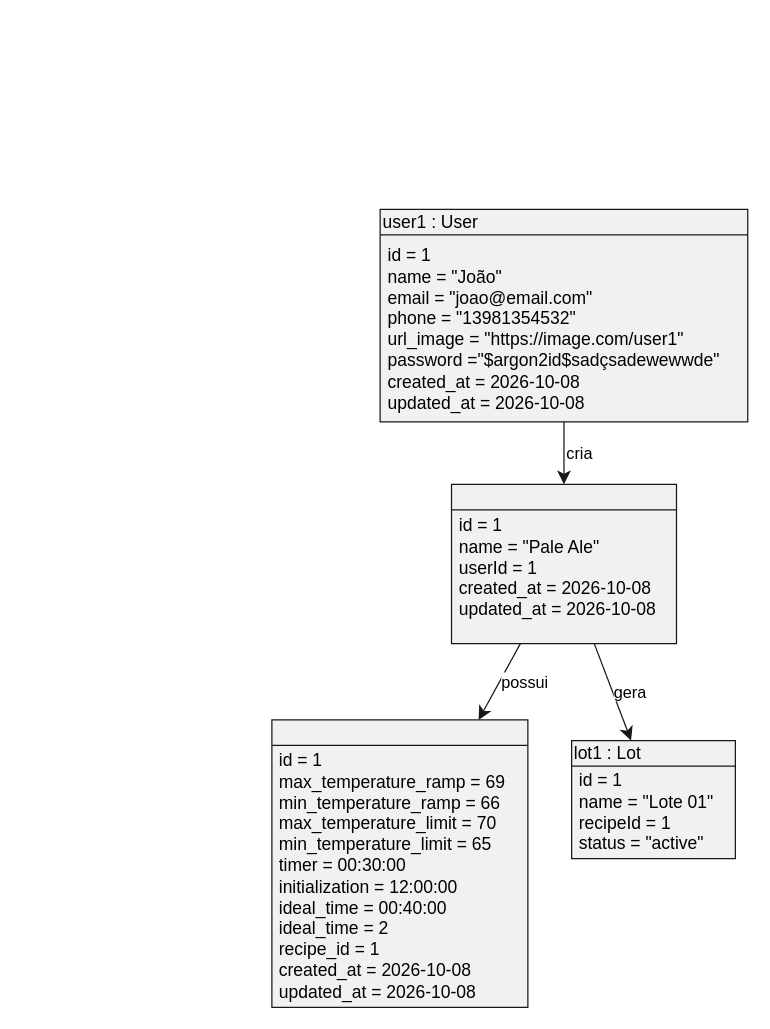
Image size: 770x1029. Some labels were removed from this diagram. The shapes that lost their labels are listed below. From the top down, each one's box as (x1, y1, x2, y2) in pixels, then its label:
(450, 483, 676, 644): recipe1 : Recipe
(271, 719, 528, 1007): ramp1 : Temperature
